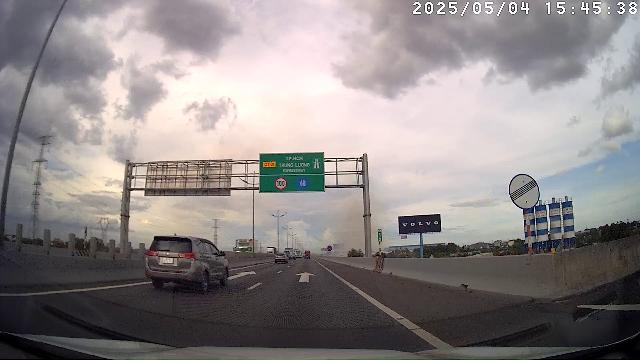127-toc-do-toi-da-100: (274, 176, 288, 190)
306-toc-do-toi-thieu-60: (296, 176, 311, 190)
437-bat-dau-duong-cao-toc: (312, 157, 322, 170)
